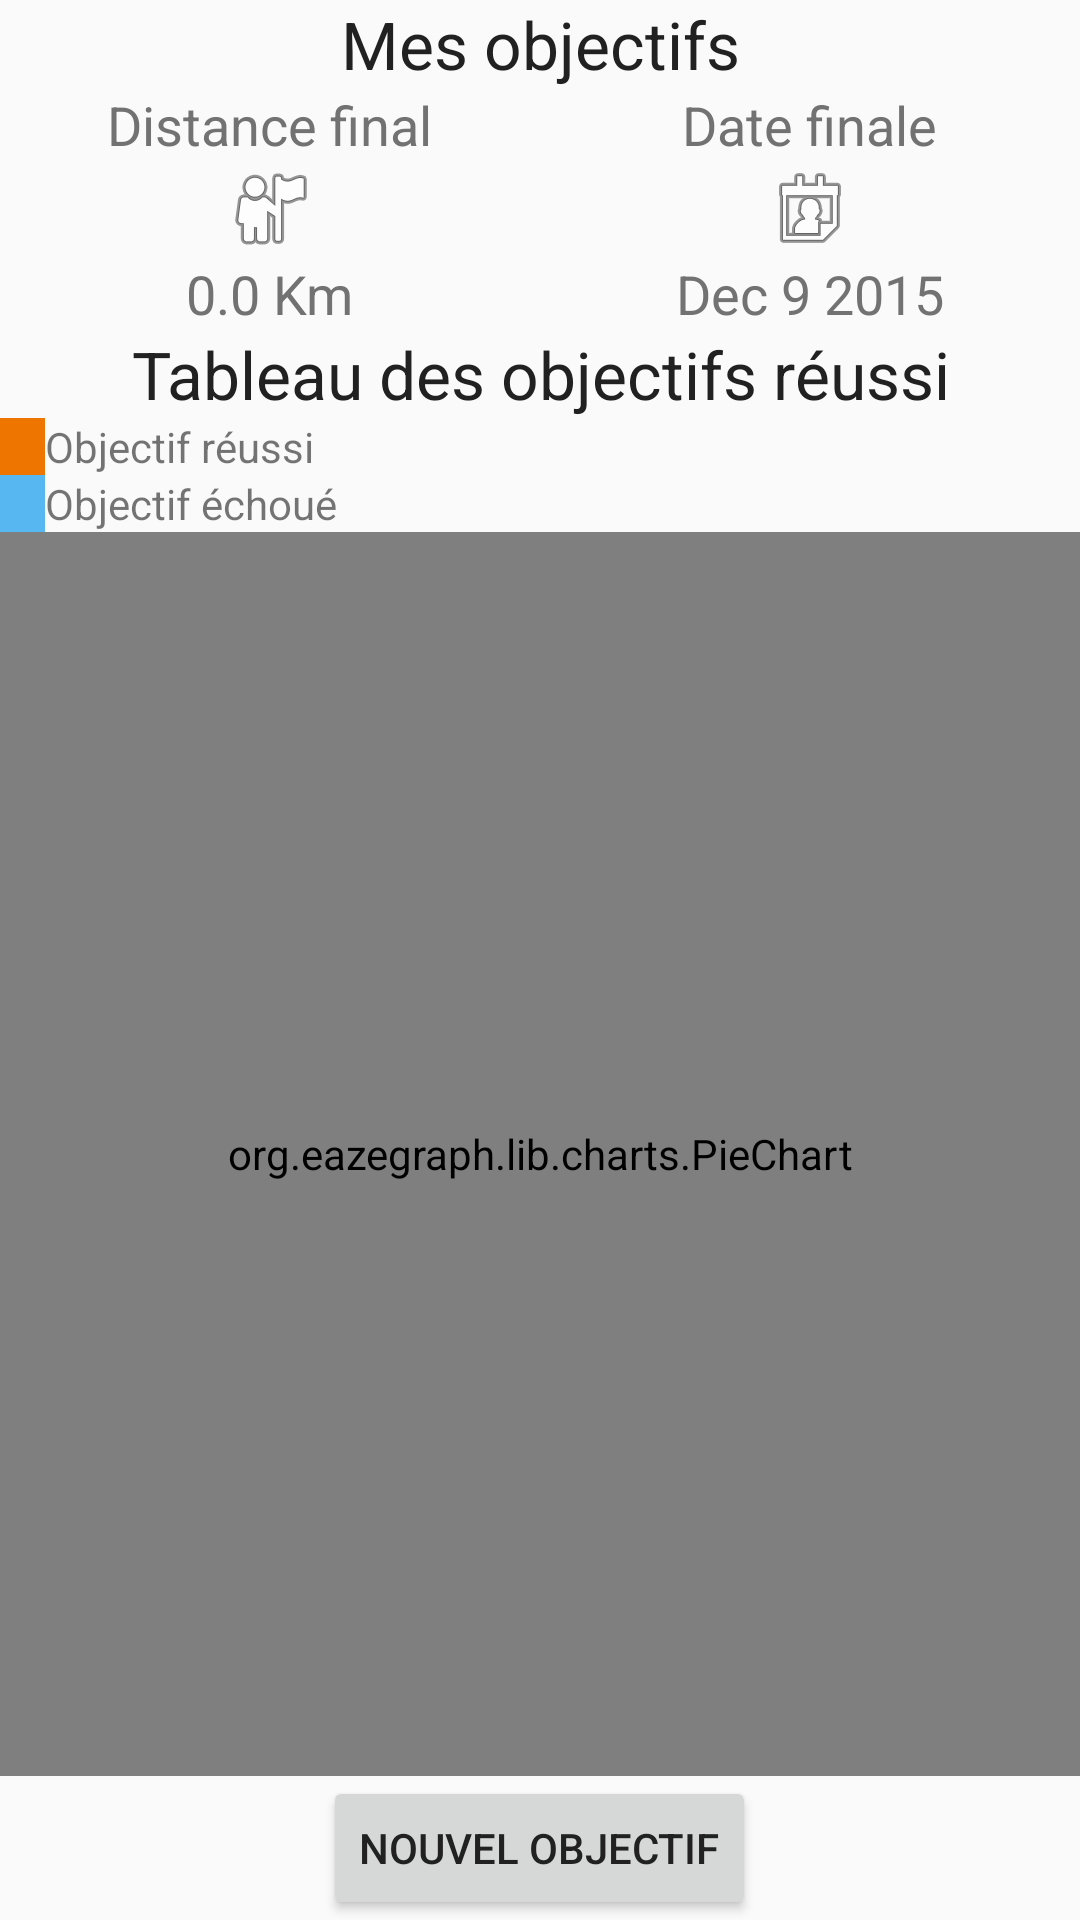

Named icons in this screenshot (1080px×1920px) and their centers, [x,y]:
calendar: [810,208]
